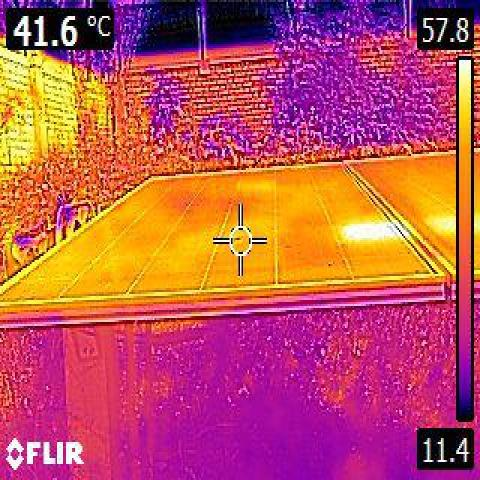fault: (343, 222, 394, 242)
